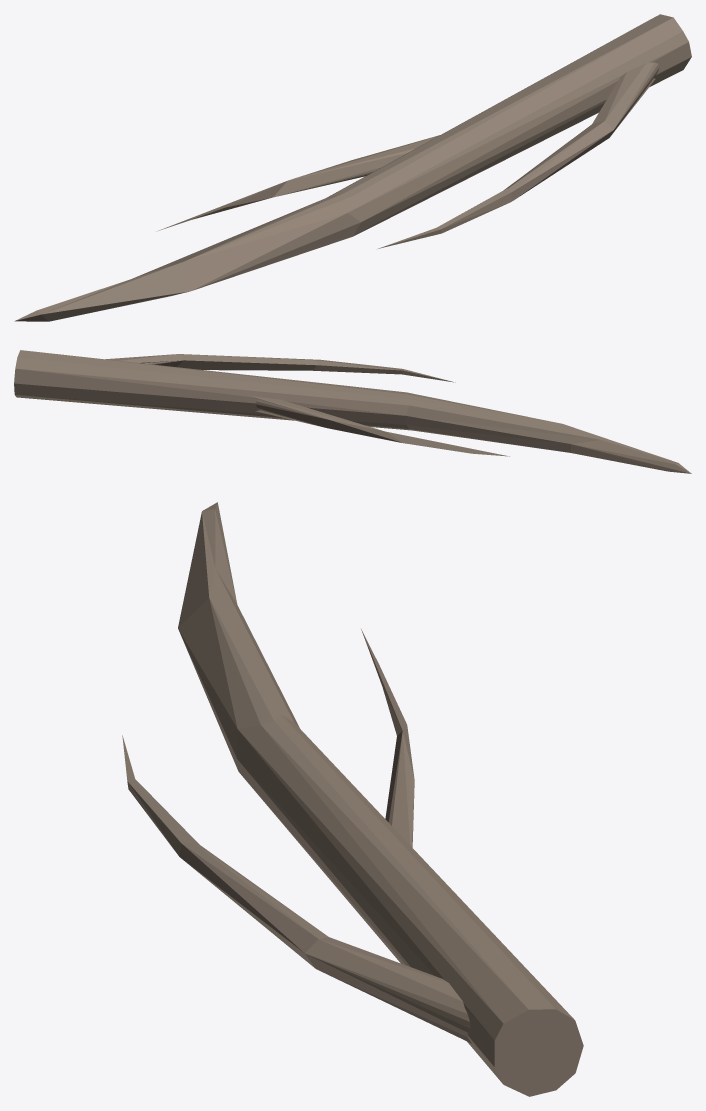
The model's file is fallen_tree3.gltf.
3 renders of one model, top to bottom at view 1: azimuth 30°, elevation 25°; view 2: azimuth 150°, elevation 25°; view 3: azimuth 270°, elevation 25°, orthographic. The views are drawn at different scales.
Parts seen in each view (by area): view 1: Sphere.060_wood_0; view 2: Sphere.060_wood_0; view 3: Sphere.060_wood_0.
Part boxes in pixels (x1,y1,x2,y2): Sphere.060_wood_0: (14,14,691,321); Sphere.060_wood_0: (14,350,691,473); Sphere.060_wood_0: (122,502,583,1096).
Bounding box in the file's own units: 1.02 × 0.0751 × 0.3385.
